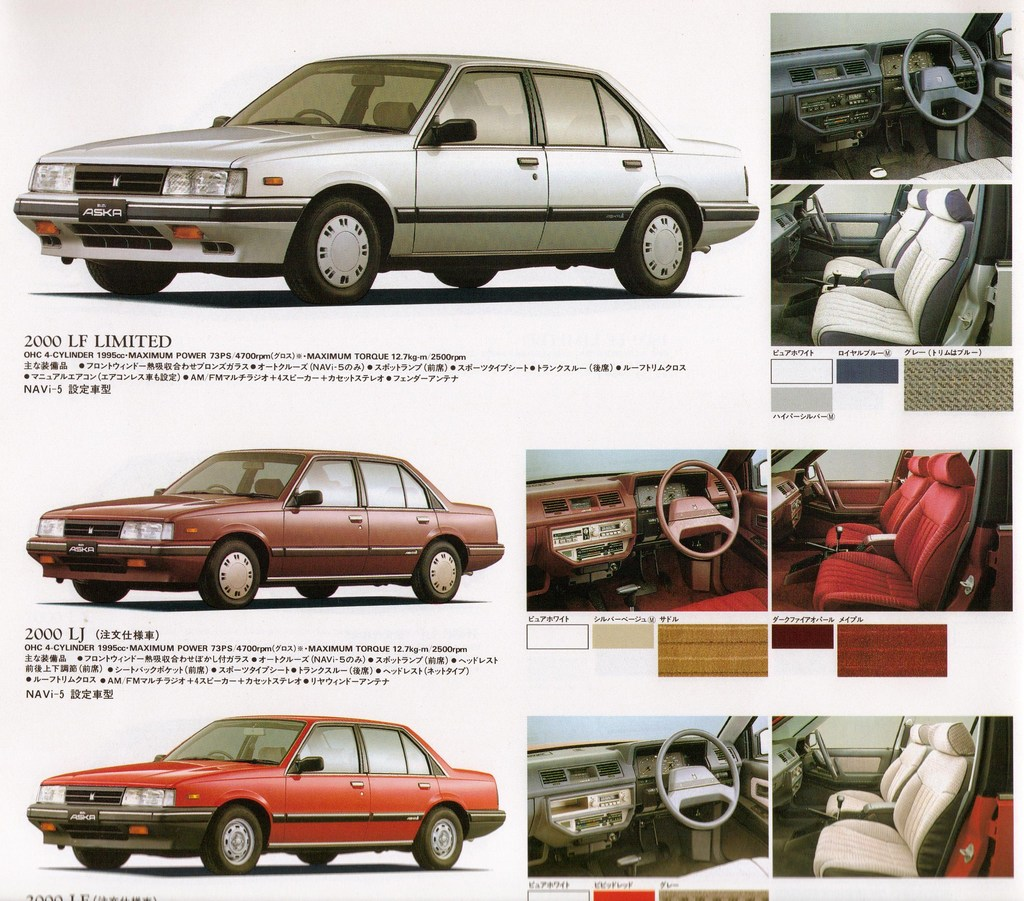Car: (14, 53, 760, 306), (26, 714, 506, 876), (28, 448, 506, 609), (774, 13, 1015, 180), (527, 449, 768, 611), (772, 449, 1013, 611), (527, 717, 768, 878), (772, 184, 1013, 344), (774, 717, 1015, 876)
